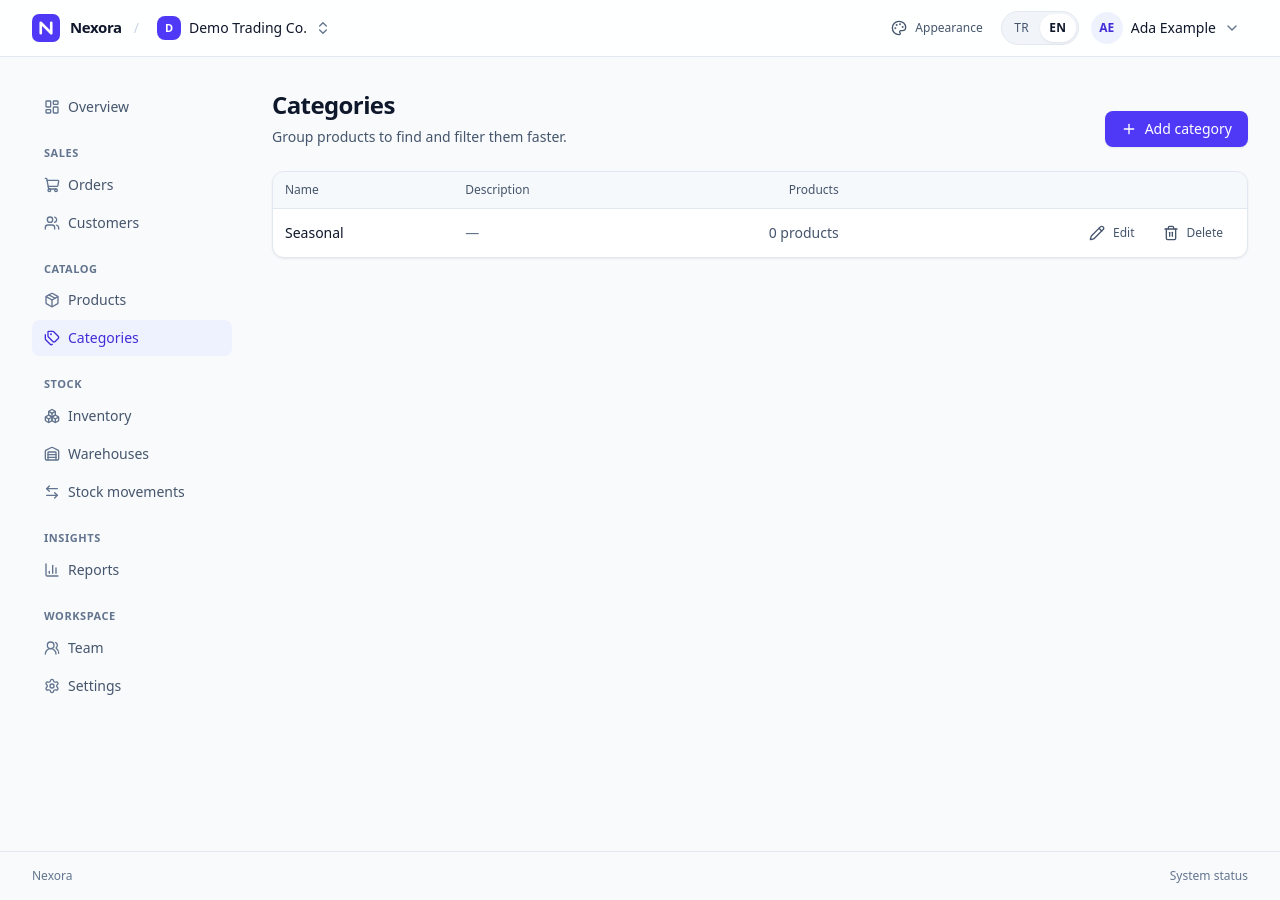
Test: CategoriesPage › closes dialogs with Escape and keeps Tab inside them
Expected: the heading "Categories" is shown, [272,88,395,121]
Click the button with aria-label "Delete Seasonal". click: (1193,233)
box: [1150,217,1235,249]
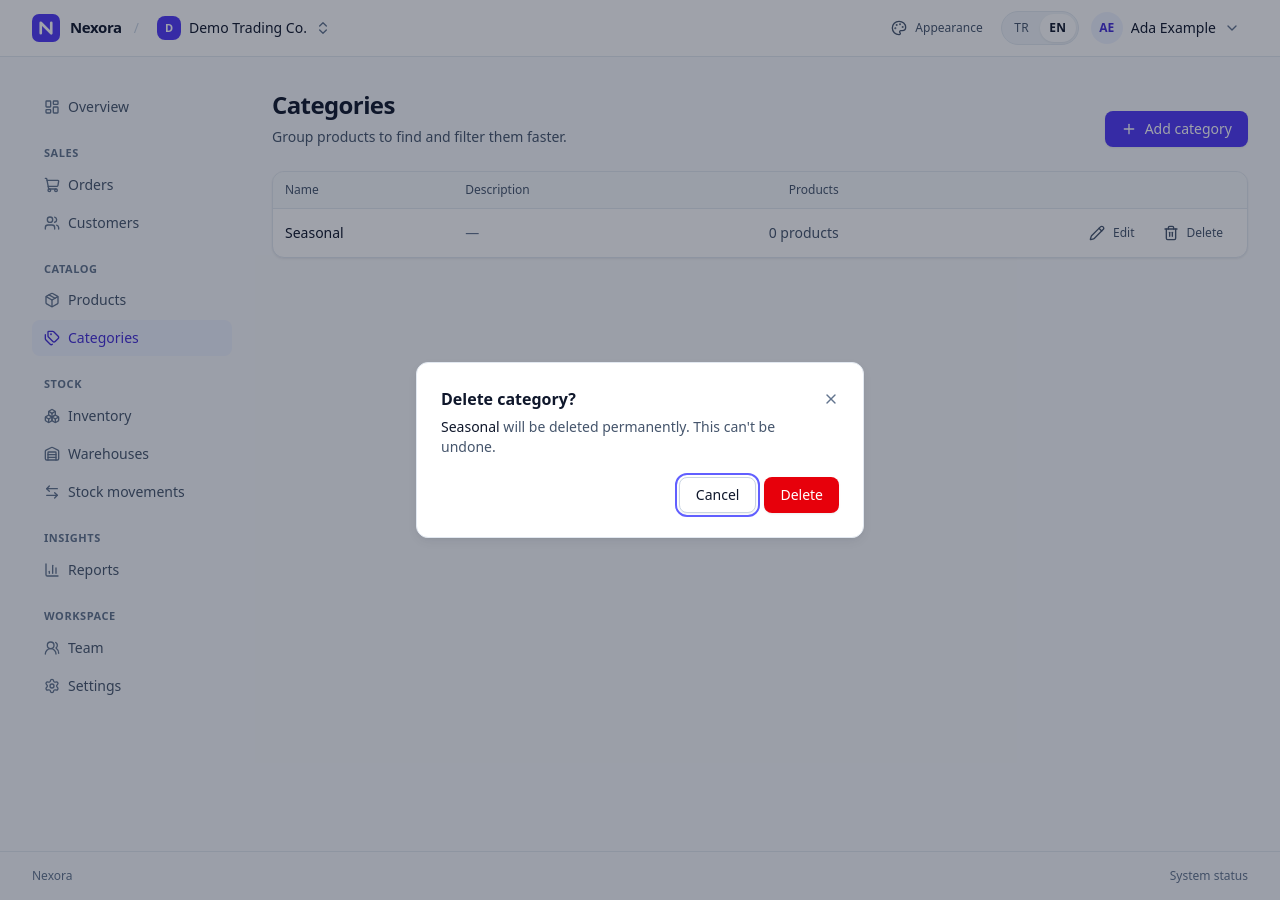
Press Tab
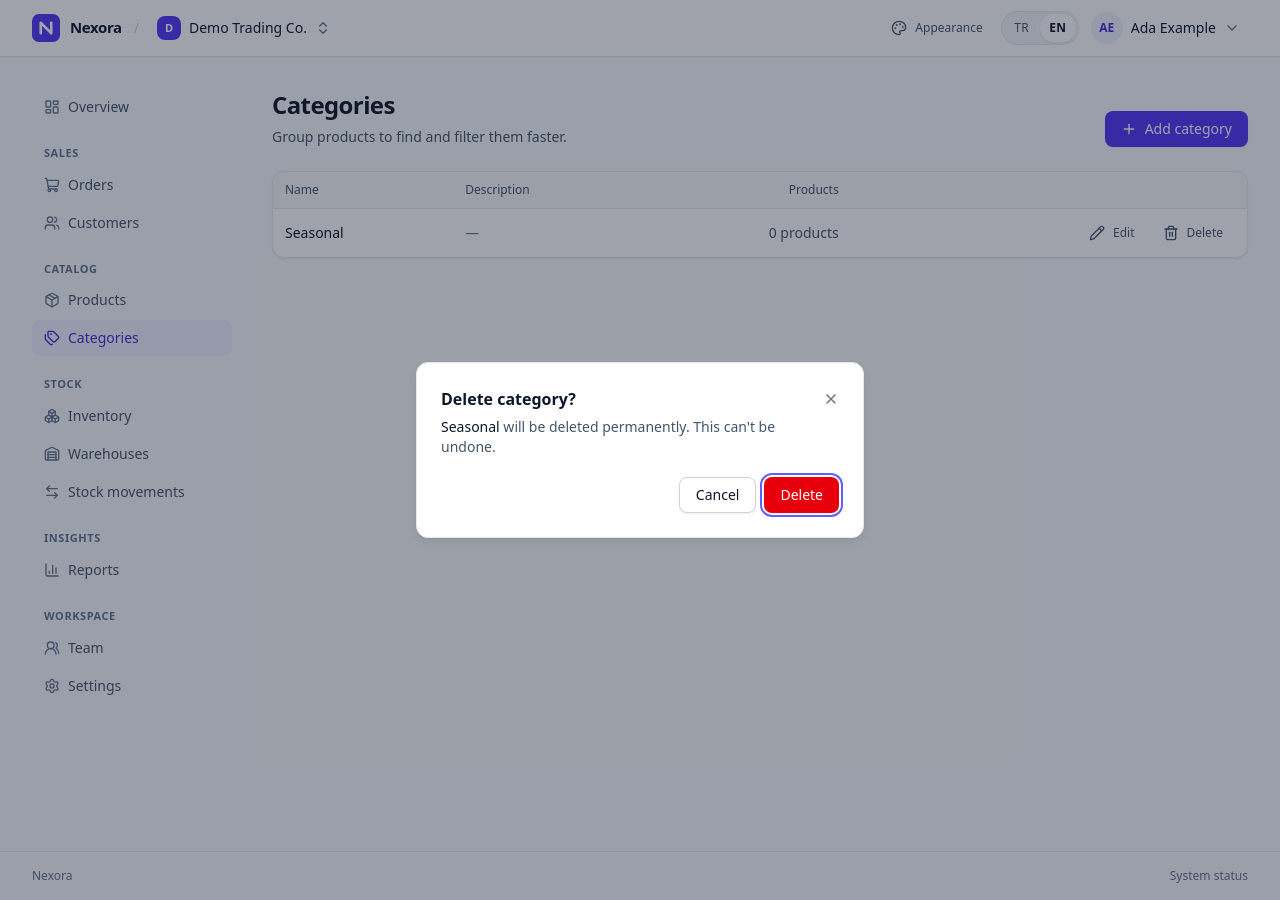
Press Tab
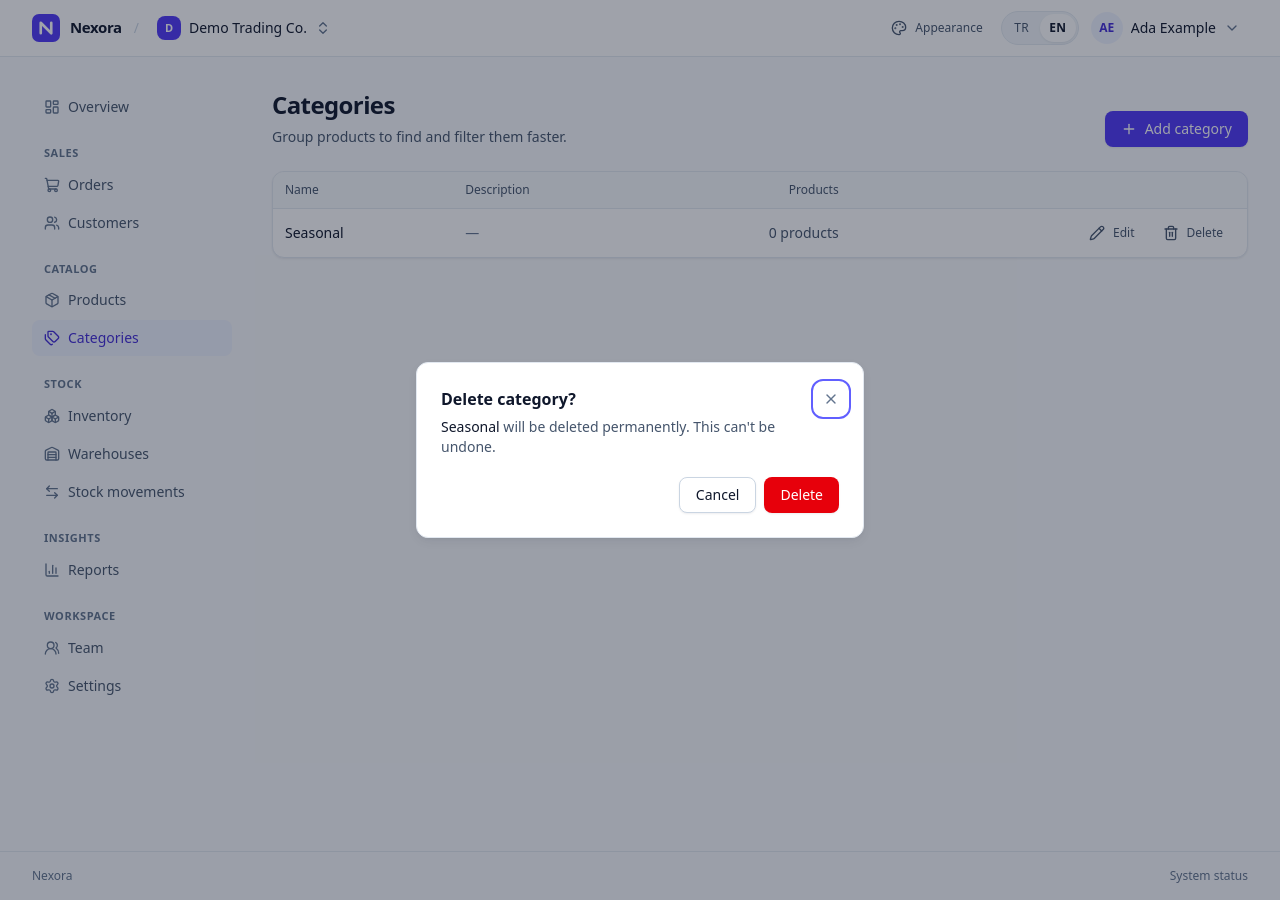
Press Escape
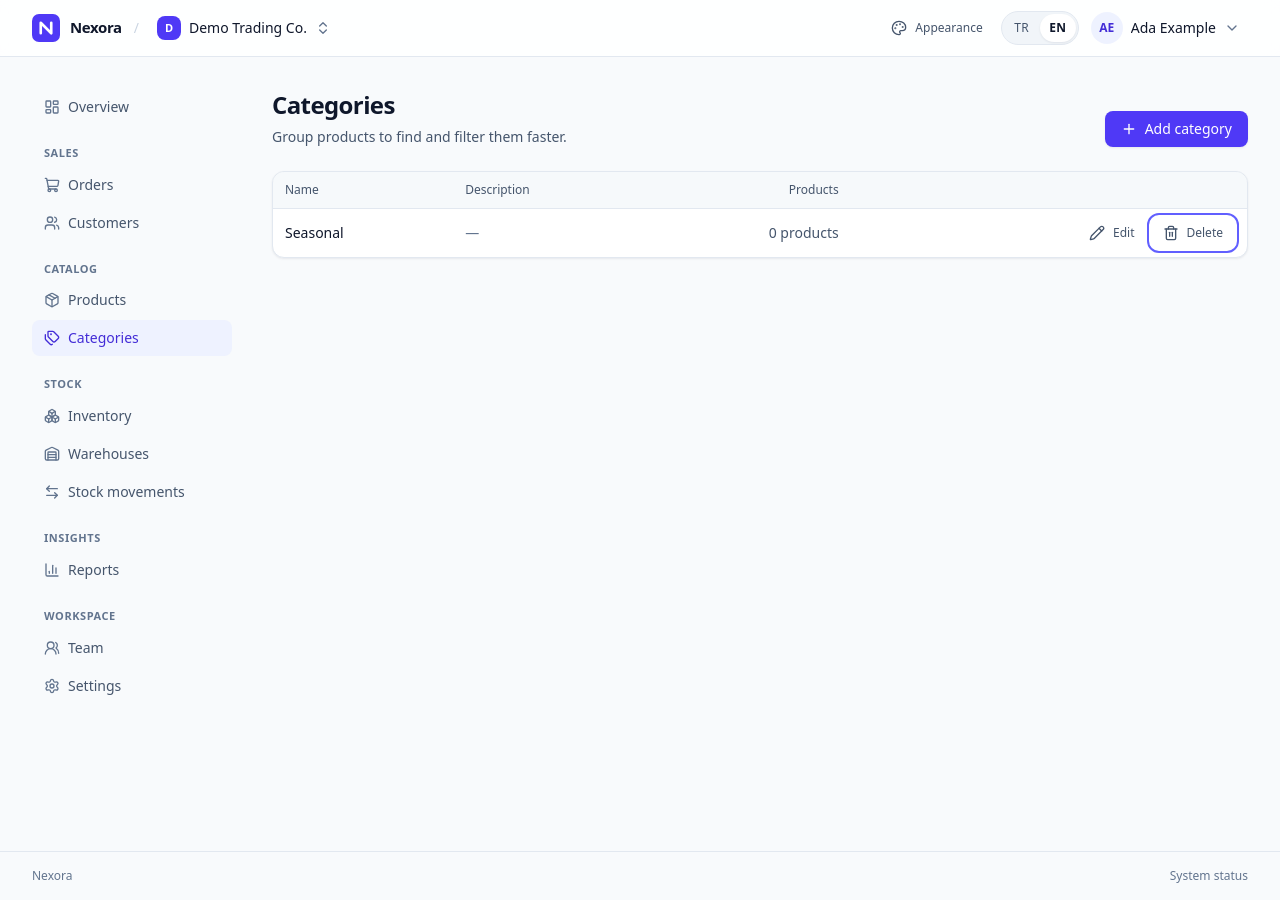
Expected: the dialog is gone
